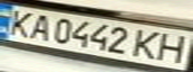0: (48, 16, 75, 45)
2: (106, 24, 136, 56)
4: (87, 21, 112, 53), (69, 18, 93, 50)
A: (24, 11, 54, 42)
H: (151, 30, 193, 64)
K: (130, 27, 166, 61), (0, 7, 39, 38)
